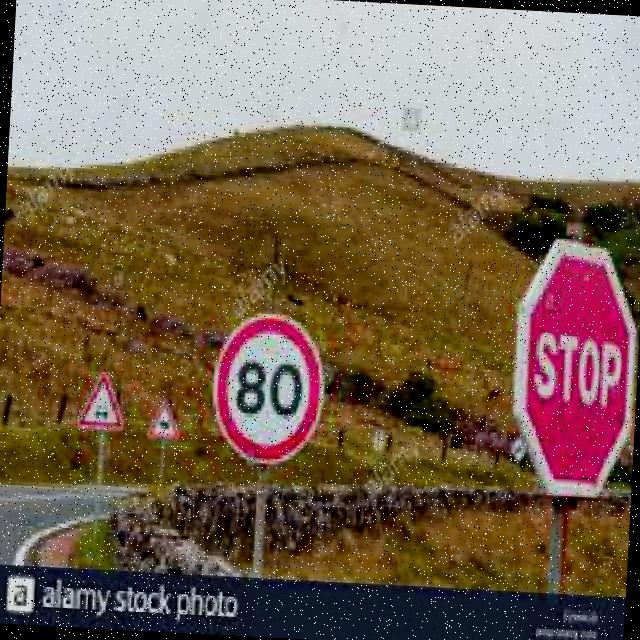Ograniczenie predkosci do 80: (210, 311, 324, 470)
